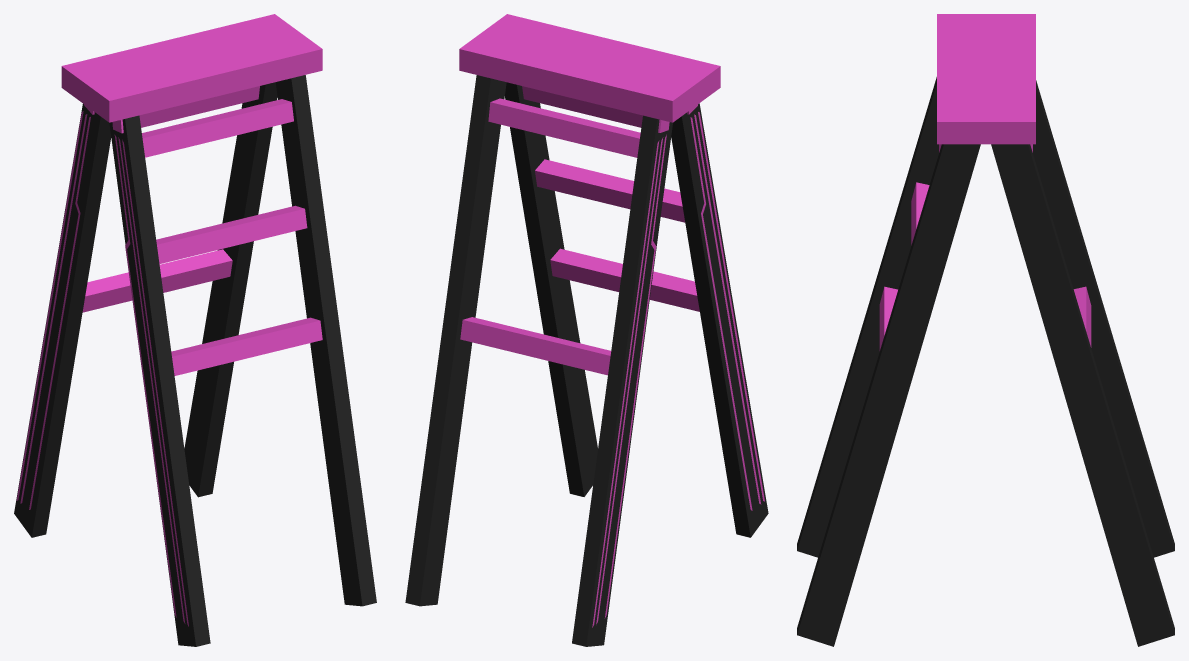
Rendered from ladderobstacle.fbx.
The picture shows the model from 3 angles, left to right: view 1: azimuth 30°, elevation 25°; view 2: azimuth 150°, elevation 25°; view 3: azimuth 270°, elevation 25°; orthographic projection. The views are drawn at different scales.
Visible parts, largest first — view 1: Plane; view 2: Plane; view 3: Plane.
Part boxes in pixels (x1,y1,x2,y2): Plane: (14,14,376,646); Plane: (405,14,768,646); Plane: (797,14,1174,646).
Size of the model in its own units: 65.02 by 149 by 96.18.
